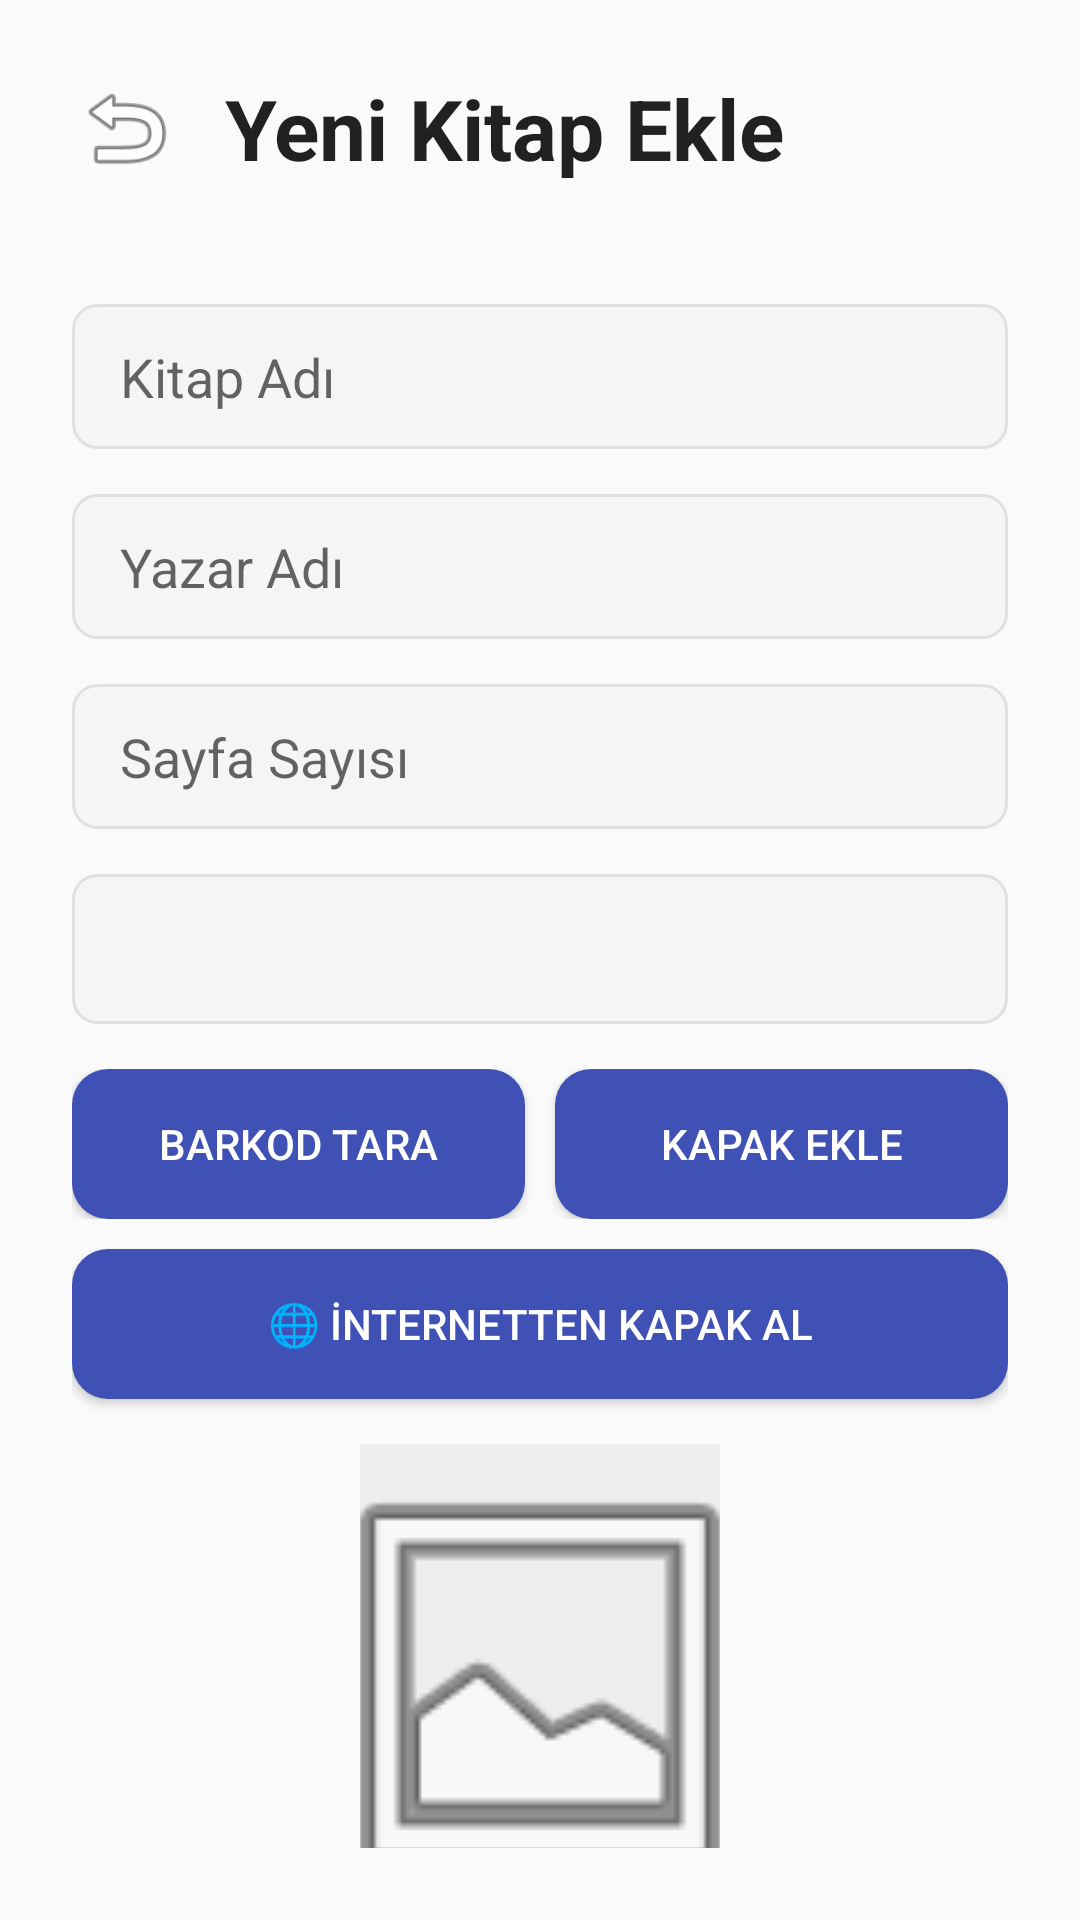

Where to tap for icons on this 1080px x 1920px app screen, as point (x, y):
revert: point (127, 129)
